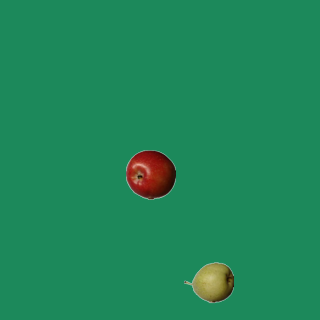Apple Braeburn: (125, 149, 175, 199)
Pear: (183, 257, 233, 307)
